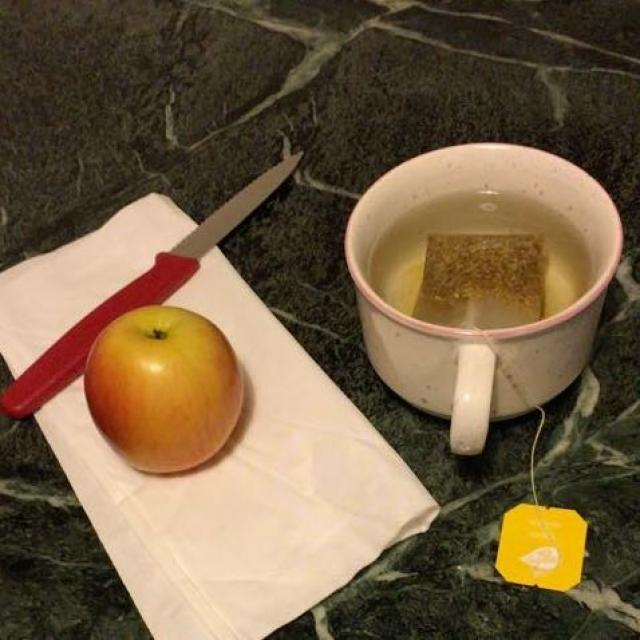apple: (86, 309, 242, 469)
tea: (385, 226, 574, 327)
